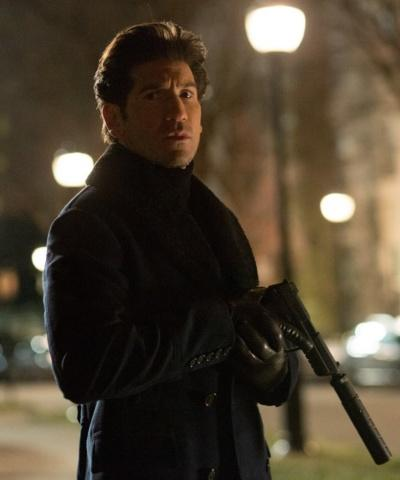Gun: (249, 281, 392, 466)
